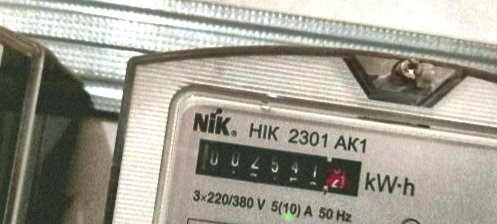0: (206, 144, 222, 167), (227, 146, 242, 168)
1: (307, 156, 321, 180)
2: (246, 148, 264, 171)
4: (287, 153, 301, 175)
5: (266, 151, 282, 175)
6: (328, 175, 340, 188)
screen: (180, 125, 375, 207)
